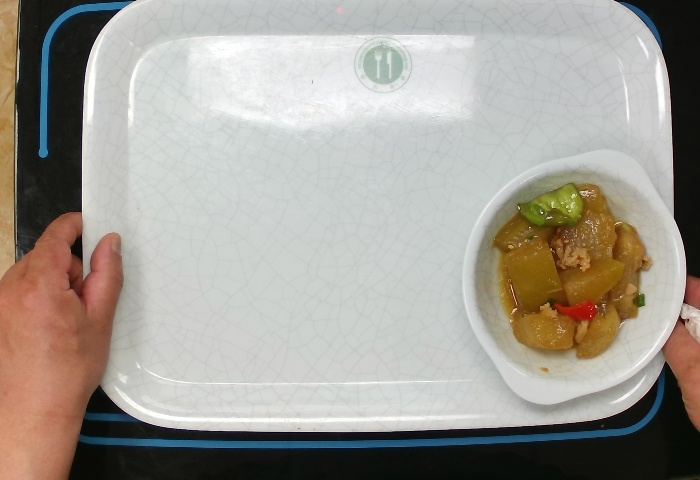JYsf-Shuang_Er_Wan: (462, 148, 689, 409)
